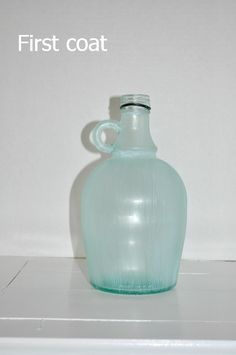bottle: (79, 95, 187, 297)
